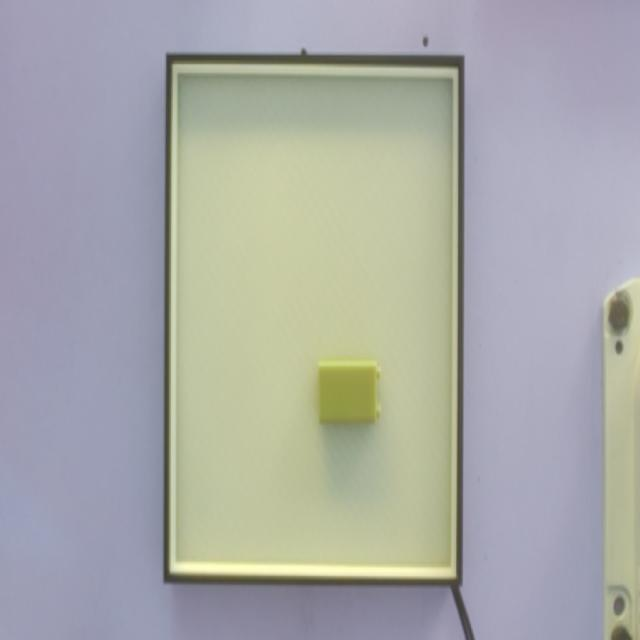bateria: (318, 361, 383, 427)
mesa: (164, 55, 464, 587)
